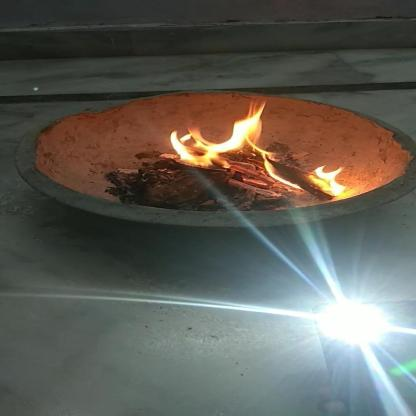fire: (162, 102, 278, 169), (310, 164, 354, 198)
